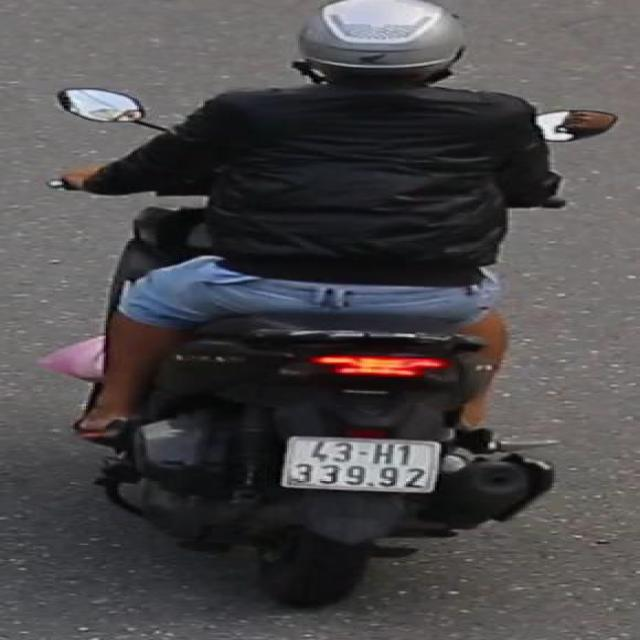LP: (275, 433, 447, 502)
helmet: (280, 0, 472, 98)
